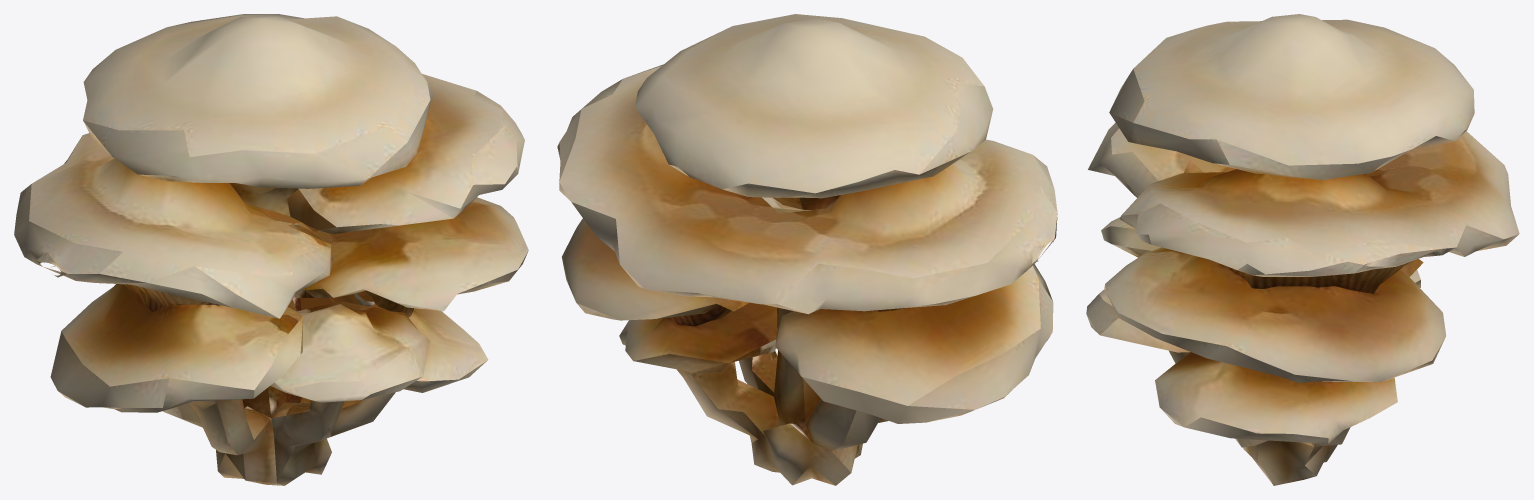
Rendered from pale_oyster.glb.
3 renders of one model, left to right at view 1: azimuth 30°, elevation 25°; view 2: azimuth 150°, elevation 25°; view 3: azimuth 270°, elevation 25°, orthographic. The views are drawn at different scales.
Parts seen in each view (by area): view 1: pale_oyster; view 2: pale_oyster; view 3: pale_oyster.
Part boxes in pixels (left/top/right/bottom): pale_oyster: left=14, top=14, right=528, bottom=485; pale_oyster: left=557, top=14, right=1057, bottom=485; pale_oyster: left=1086, top=14, right=1519, bottom=485.
Size of the model in its own units: 1 by 0.9478 by 0.8427.
1 material, 1 textured.
